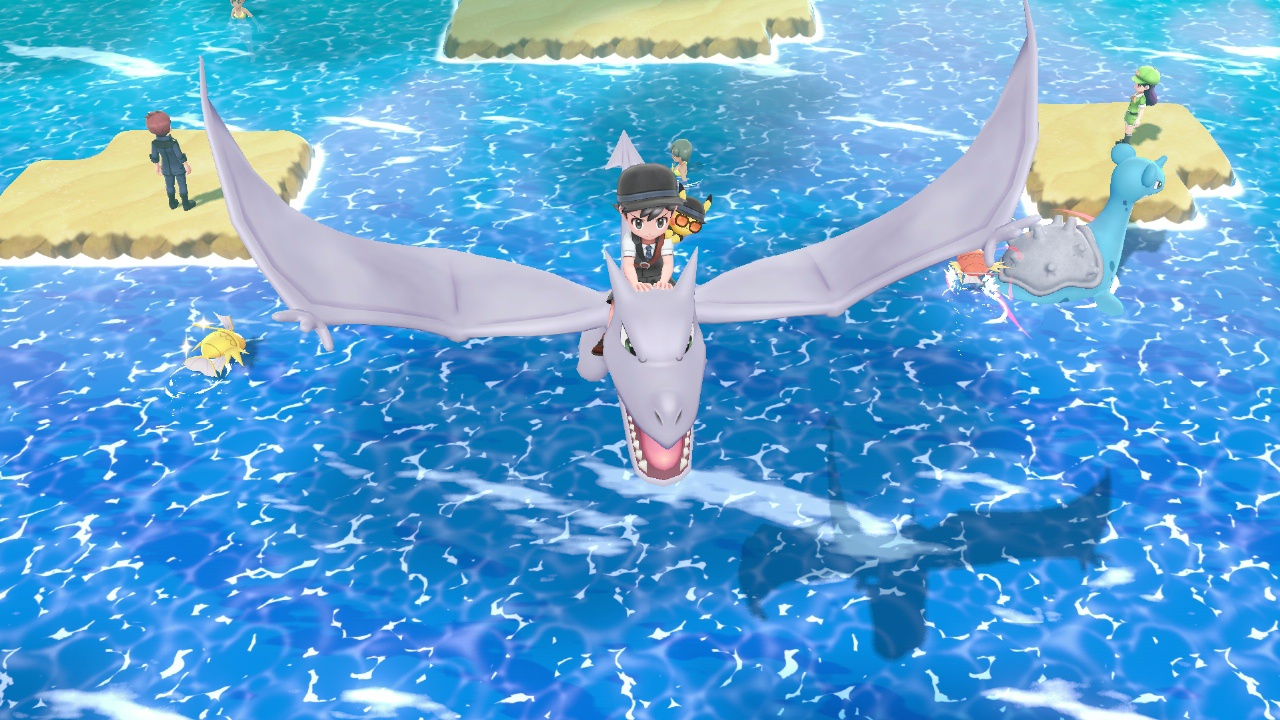Golden: (183, 311, 248, 380)
Red: (950, 244, 997, 292)
